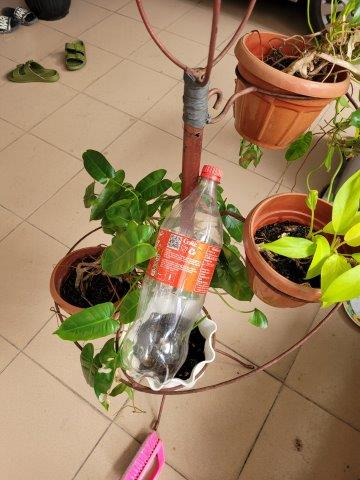botolplastik: (125, 168, 223, 382)
